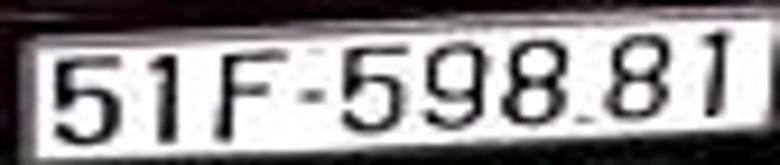-: (295, 92, 326, 102)
.: (576, 114, 591, 123)
1: (151, 57, 179, 142), (702, 41, 724, 119)
5: (55, 57, 124, 142), (341, 49, 402, 131)
8: (612, 32, 669, 121), (504, 42, 566, 123)
9: (424, 47, 482, 129)
F: (219, 50, 281, 141)
